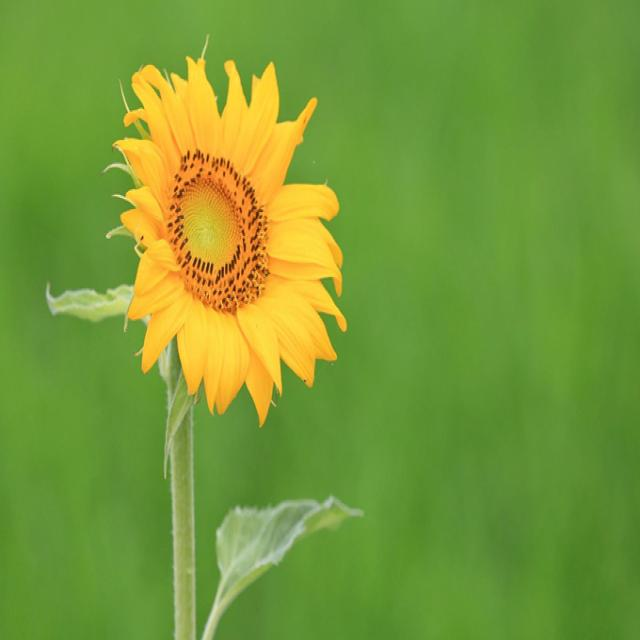sunflower: (105, 29, 353, 430)
